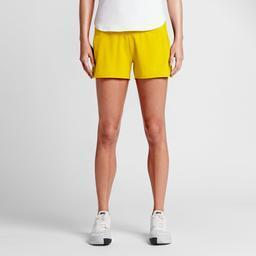short: (90, 28, 174, 80)
